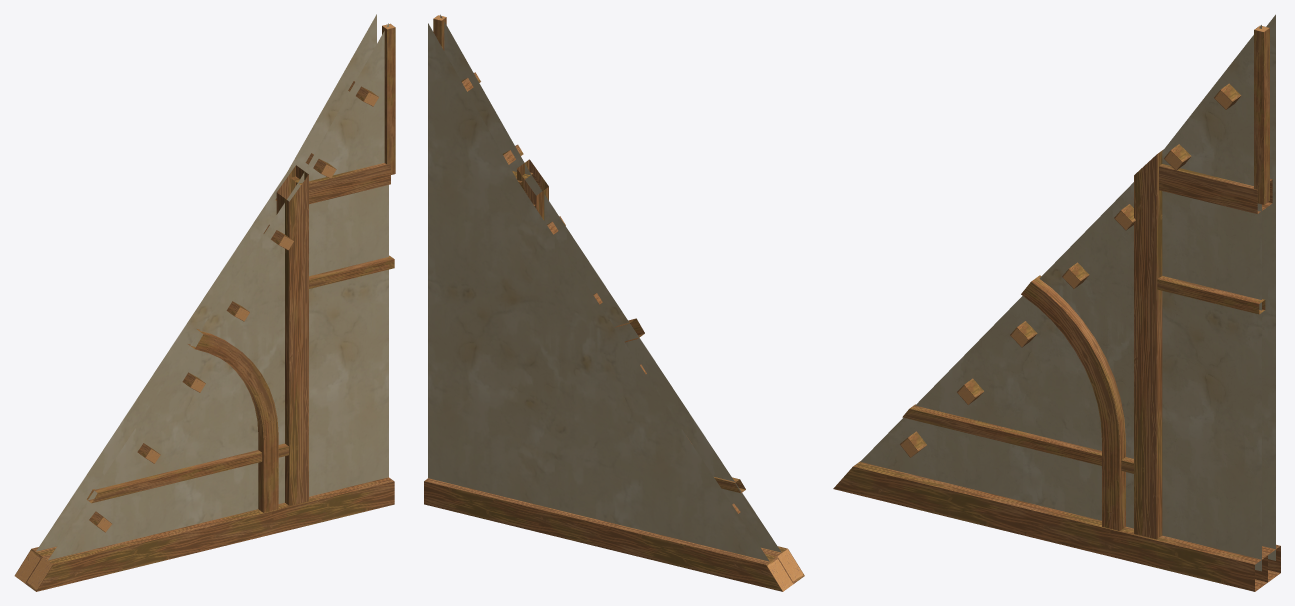
File: Roof_Front_Brick8_Half_L.gltf
3 views of the same model, side by side, from view 1: azimuth 30°, elevation 25°; view 2: azimuth 150°, elevation 25°; view 3: azimuth 330°, elevation 25° (orthographic). The views are drawn at different scales.
Parts seen in each view (by area): view 1: Roof_Front_Brick8_Half_L; view 2: Roof_Front_Brick8_Half_L; view 3: Roof_Front_Brick8_Half_L.
Boxes of the visible parts, bbox=[...] form: Roof_Front_Brick8_Half_L: bbox=[14, 14, 395, 591]; Roof_Front_Brick8_Half_L: bbox=[424, 14, 804, 591]; Roof_Front_Brick8_Half_L: bbox=[833, 14, 1280, 591].
Size of the model in its own units: 4.33 by 5.45 by 0.4896.
Materials: 2 (2 with a texture image).
